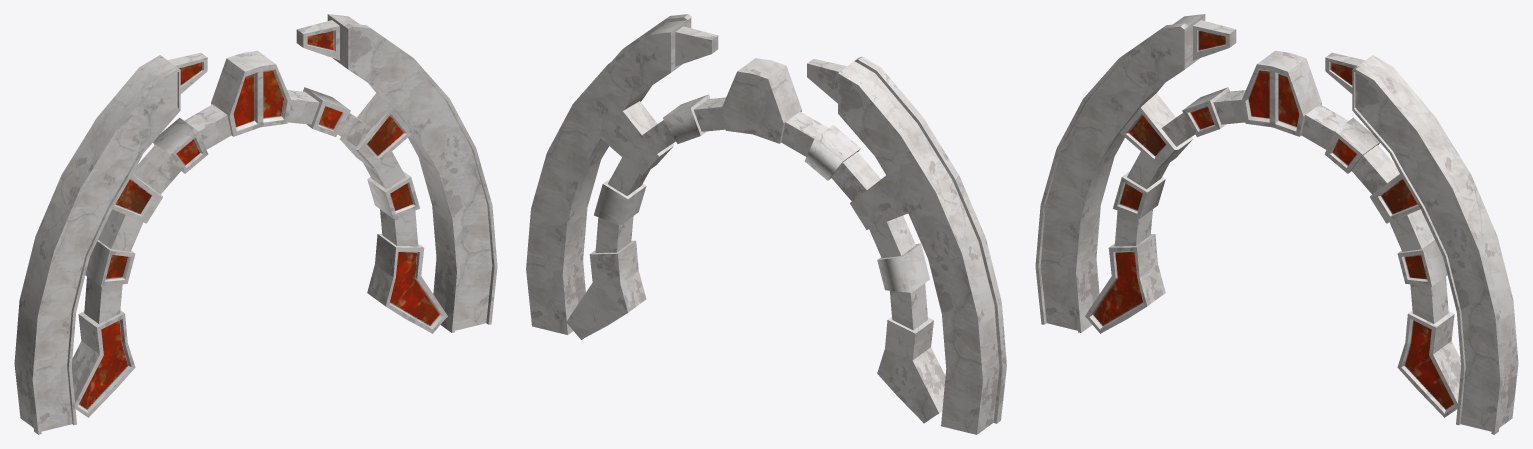
File: BgMD_Ruins_GLgate.fbx
The picture shows the model from 3 angles, left to right: view 1: azimuth 30°, elevation 25°; view 2: azimuth 150°, elevation 25°; view 3: azimuth 330°, elevation 25°; orthographic projection.
Visible parts, largest first — view 1: SM_GLgate_gate; view 2: SM_GLgate_gate; view 3: SM_GLgate_gate.
Boxes of the visible parts, x1=… form: SM_GLgate_gate: x1=14, y1=14, x2=497, y2=434; SM_GLgate_gate: x1=526, y1=14, x2=1006, y2=434; SM_GLgate_gate: x1=1035, y1=14, x2=1518, y2=434.
Bounding box in the file's own units: 940 × 641 × 80.49.
